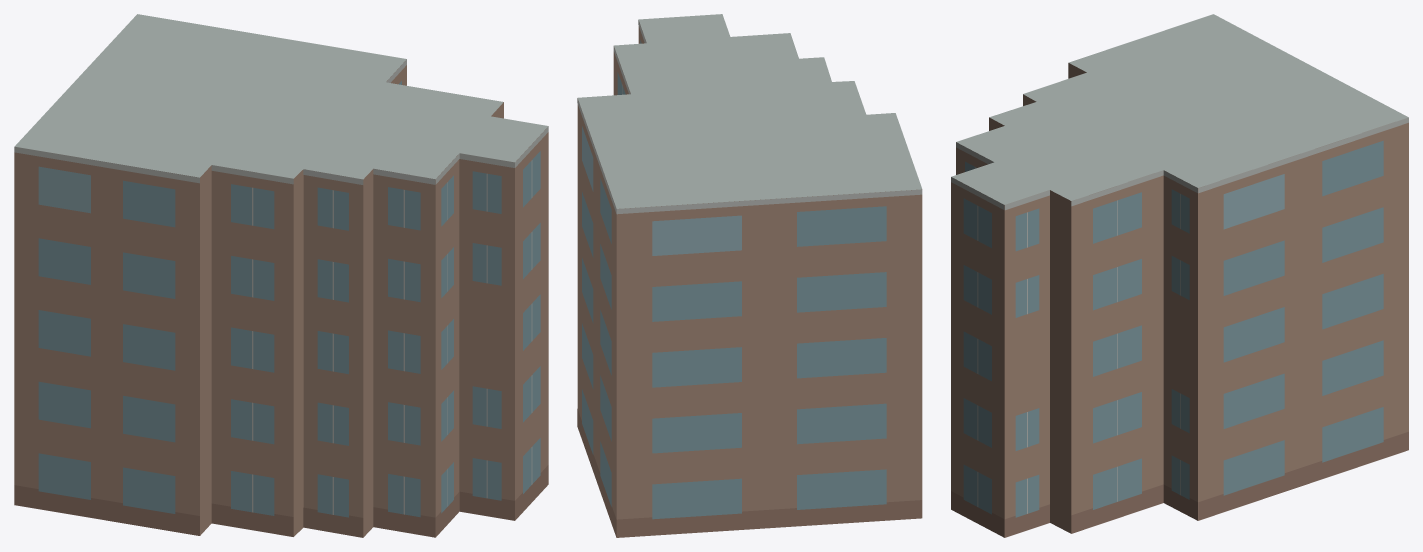
Rendered from survey-upis-32640866.glb.
3 views of the same model, side by side, from view 1: azimuth 30°, elevation 25°; view 2: azimuth 150°, elevation 25°; view 3: azimuth 270°, elevation 25° (orthographic). The views are drawn at different scales.
Visible parts, largest first — view 1: survey-upis-32640866.tmp; view 2: survey-upis-32640866.tmp; view 3: survey-upis-32640866.tmp.
Boxes of the visible parts, x1,y1,x2,y2 form: survey-upis-32640866.tmp: [14, 14, 548, 537]; survey-upis-32640866.tmp: [577, 14, 922, 537]; survey-upis-32640866.tmp: [951, 14, 1408, 537].
Size of the model in its own units: 18.79 by 15.25 by 19.02.
